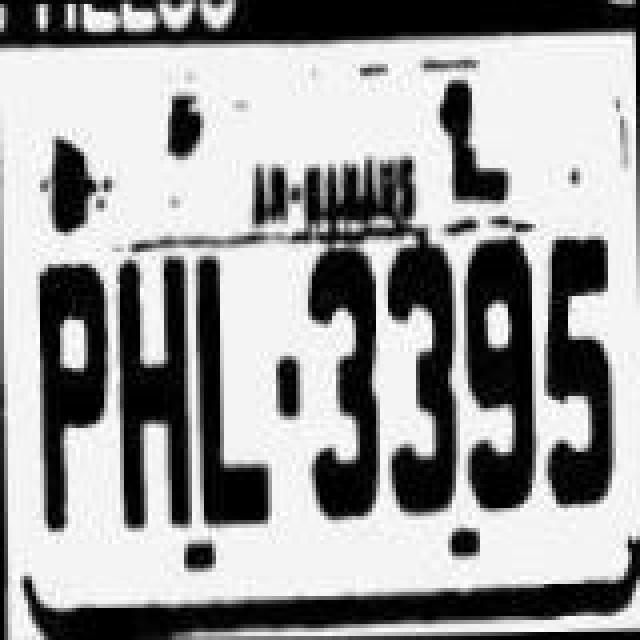3: (382, 250, 470, 518), (300, 248, 384, 524)
5: (542, 236, 630, 508)
9: (458, 240, 546, 516)
H: (116, 252, 192, 536)
L: (192, 252, 276, 532)
P: (32, 258, 116, 534)
